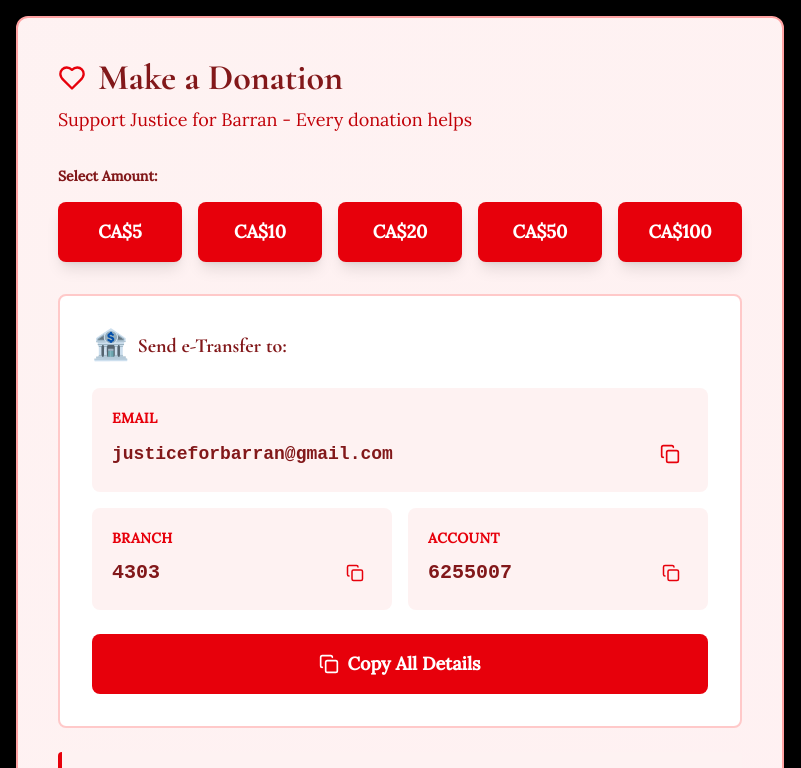
Test: OneClickTDDonate Component › highlights selected amount
Click the button "CA$10" at point(260, 232), box [198, 202, 322, 262]
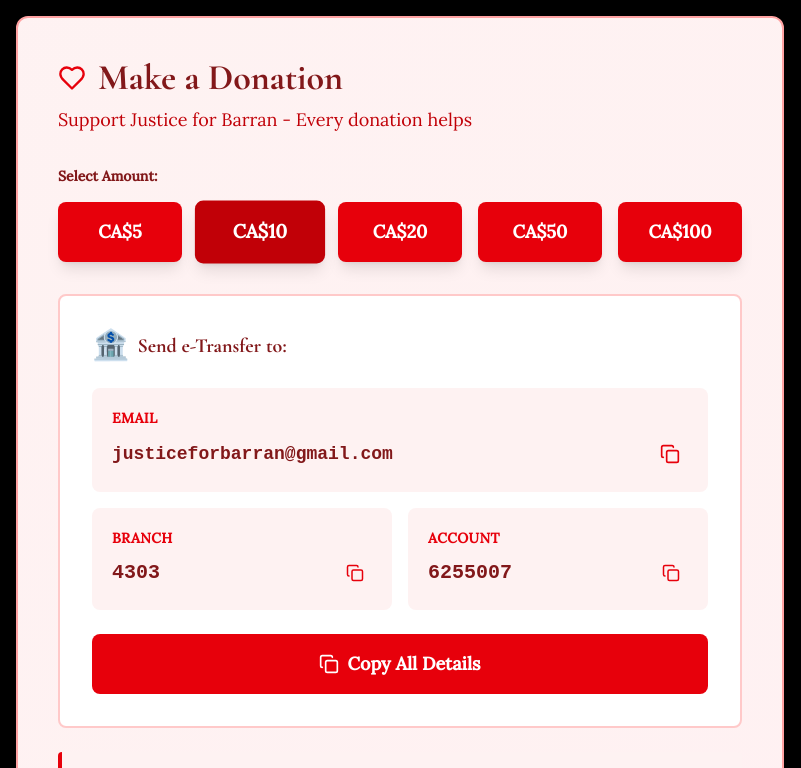
Expected: the button "CA$10" has class "bg-red-700", [195, 200, 325, 264]
